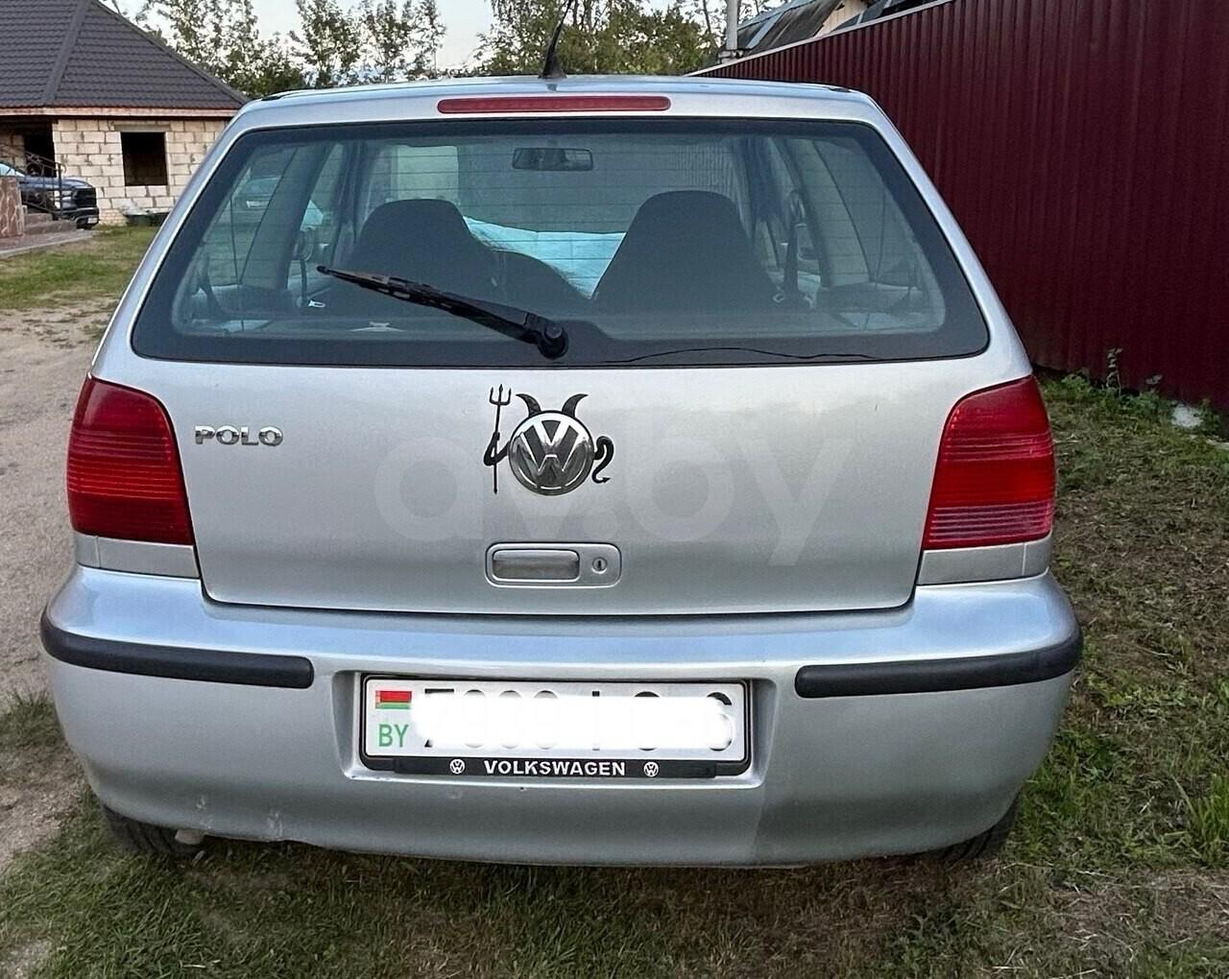Polo_2000-2002: (36, 69, 1083, 887)
